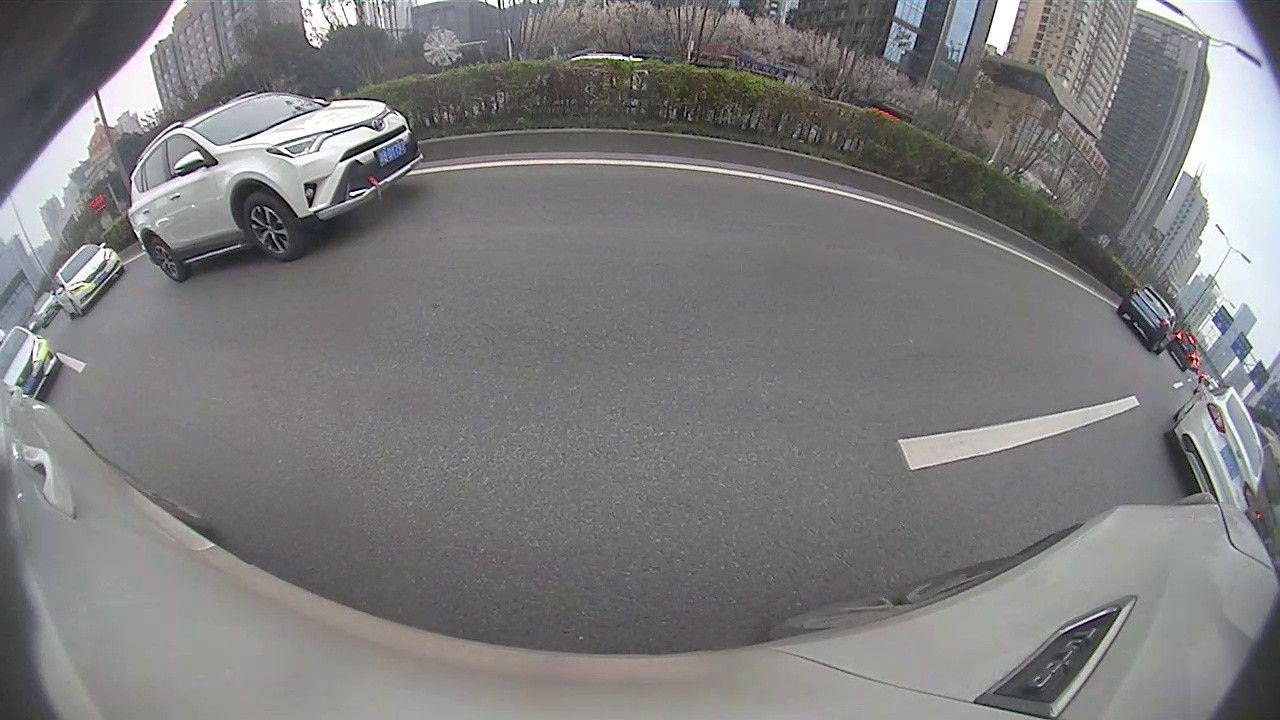car: (125, 86, 426, 283), (1162, 378, 1264, 515), (48, 239, 124, 318), (0, 327, 63, 403), (1117, 283, 1181, 355)
front: (240, 198, 297, 261)
rear: (144, 239, 183, 283)
